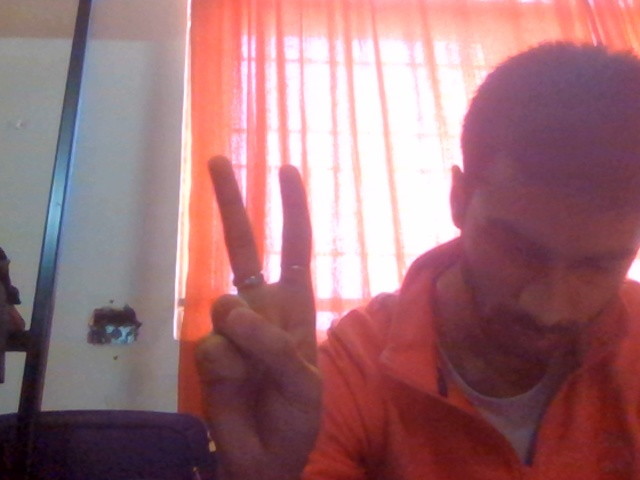V: (149, 124, 388, 480)
